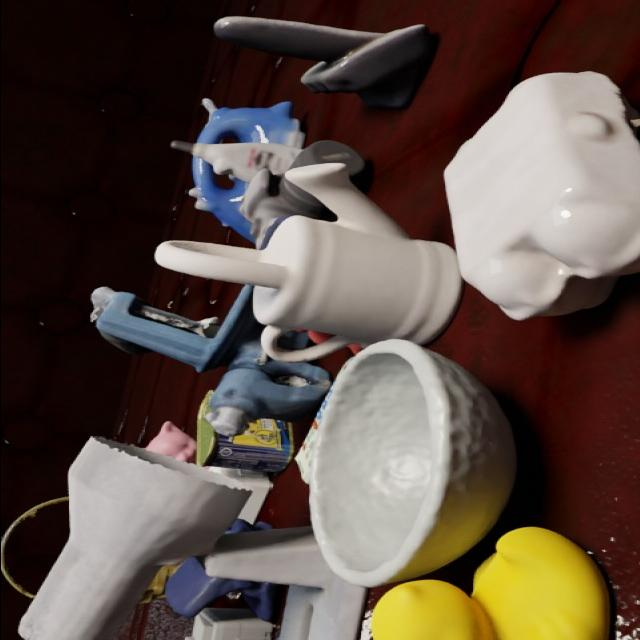Other Objects: (153, 164, 461, 361), (305, 341, 515, 588), (371, 528, 607, 640), (213, 17, 436, 109), (204, 527, 364, 640), (96, 286, 259, 372), (205, 341, 329, 436), (193, 391, 293, 472), (239, 170, 333, 246), (163, 559, 279, 620), (188, 157, 252, 241), (195, 102, 304, 148), (289, 142, 368, 189), (89, 287, 115, 321), (225, 520, 272, 534), (557, 167, 569, 178), (444, 177, 449, 180)
